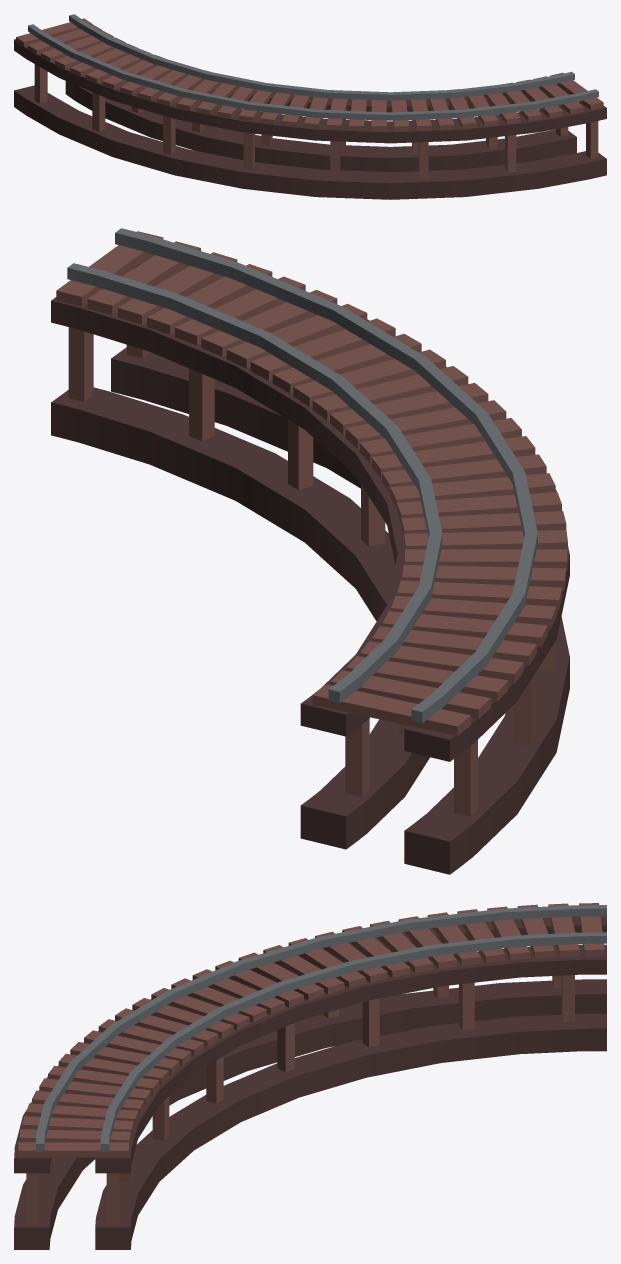
Rendered from DarkRoseWoodMechMedium0_96GaugeLeftTurn1.fbx.
3 views of the same model, one above another, from view 1: azimuth 30°, elevation 25°; view 2: azimuth 150°, elevation 25°; view 3: azimuth 270°, elevation 25° (orthographic). The views are drawn at different scales.
Visible parts, largest first — view 1: DarkRoseWoodMechMedium0_96GaugeLeftTurn1; view 2: DarkRoseWoodMechMedium0_96GaugeLeftTurn1; view 3: DarkRoseWoodMechMedium0_96GaugeLeftTurn1.
Part boxes in pixels (left/top/right/bottom): DarkRoseWoodMechMedium0_96GaugeLeftTurn1: left=14, top=14, right=606, bottom=199; DarkRoseWoodMechMedium0_96GaugeLeftTurn1: left=51, top=228, right=569, bottom=874; DarkRoseWoodMechMedium0_96GaugeLeftTurn1: left=14, top=903, right=606, bottom=1249.
Bounding box in the file's own units: 1114 × 221 × 1121.
